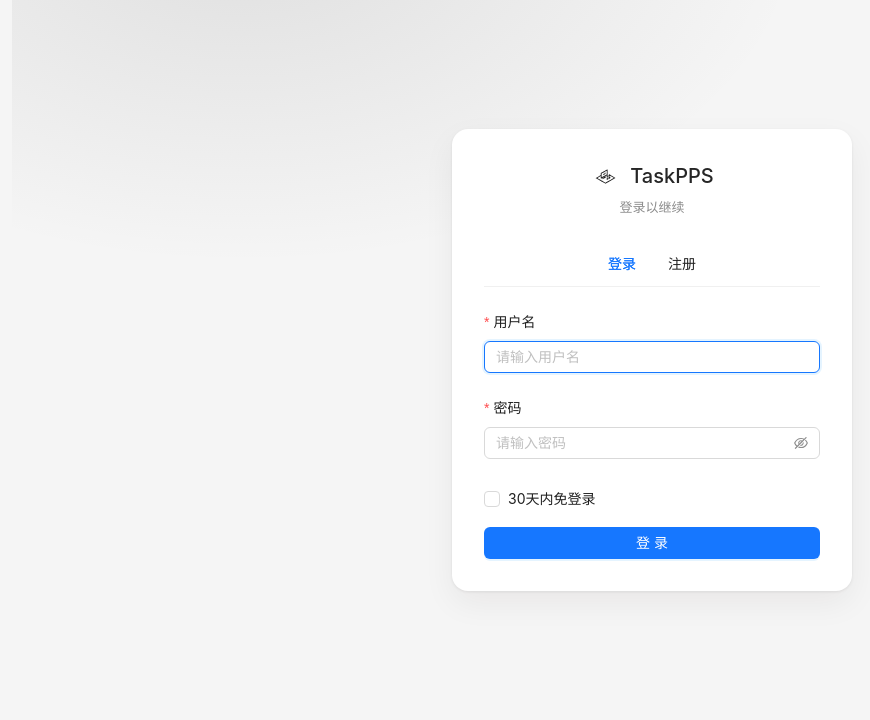
Scenario: LoginPage (issue #204) › TC-W175: 登录失败 401 显示「用户名或密码错误」
The width and height of the screenshot is (870, 720).
Type "alice" into the field with placeholder "请输入用户名" at (652, 357), box [484,341,820,373]
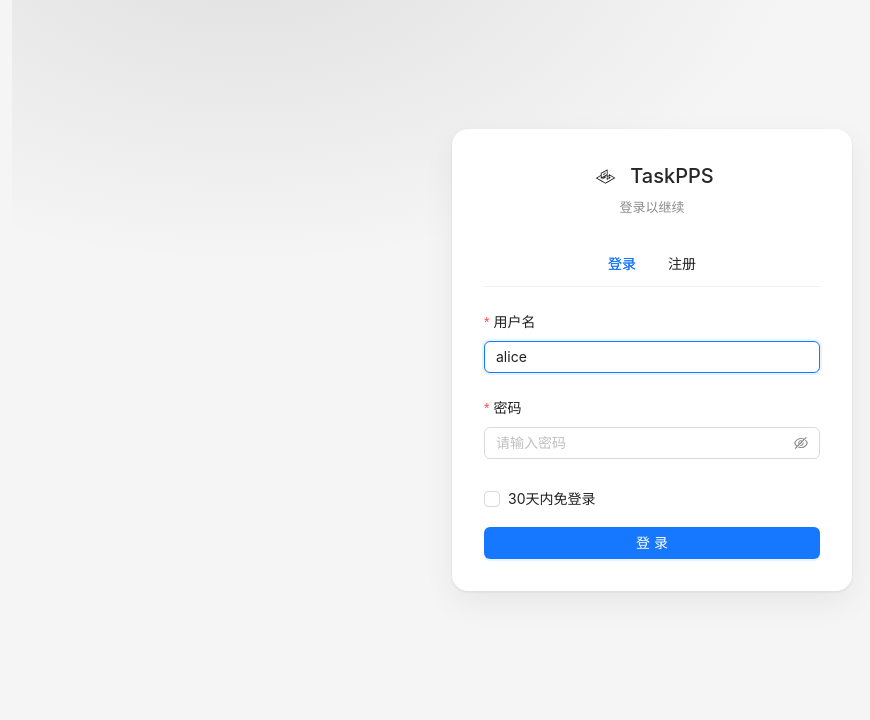
Type "wrong123" into the password field with placeholder "请输入密码" at (643, 443), box [496,432,790,454]
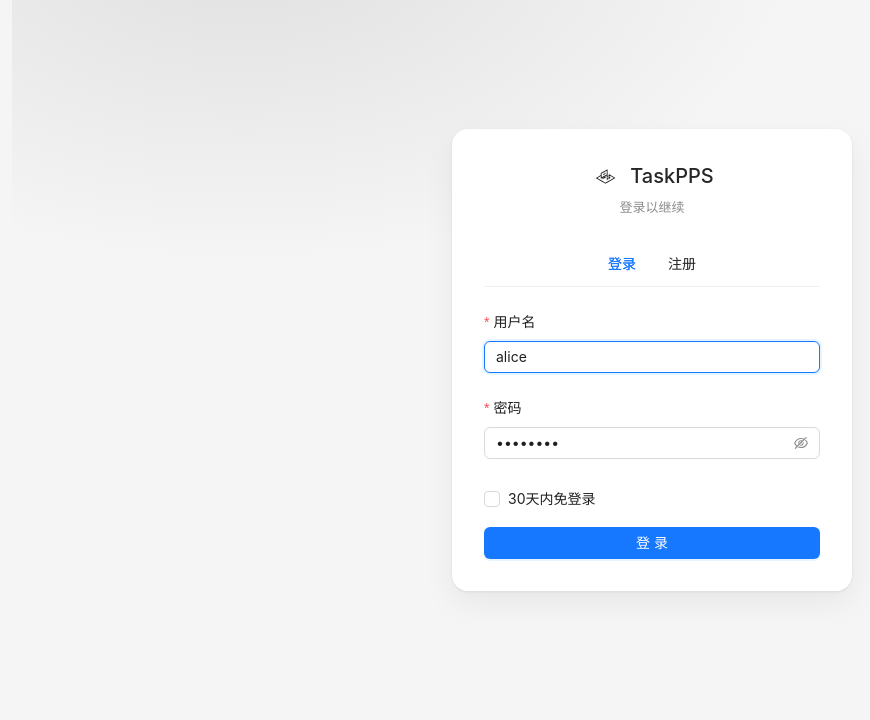
Click the submit button at (652, 543), box [484,527,820,559]
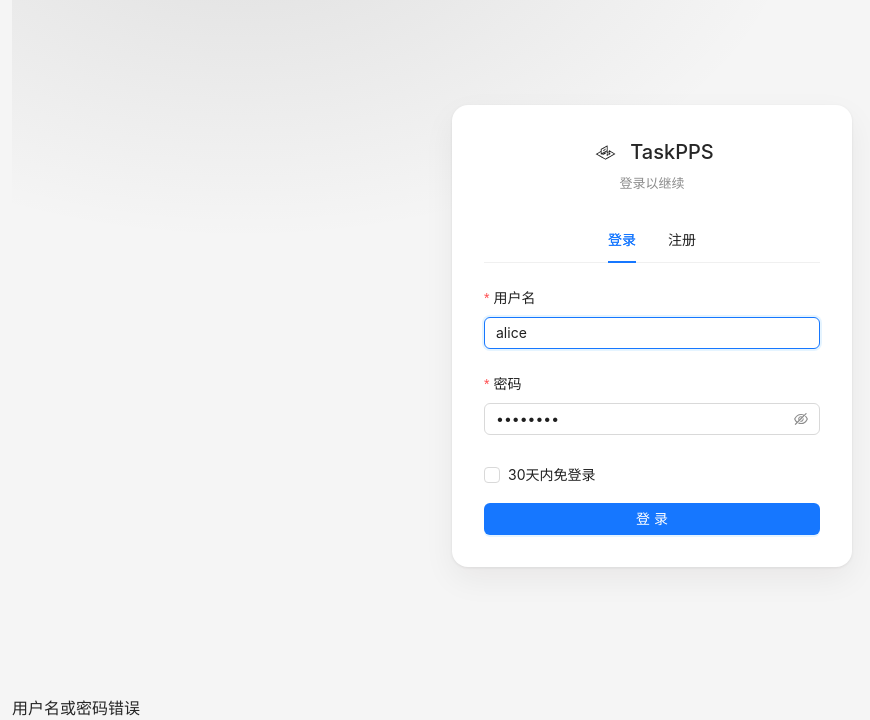
Now the text "用户名或密码错误" is shown, box [12,698,140,718]
